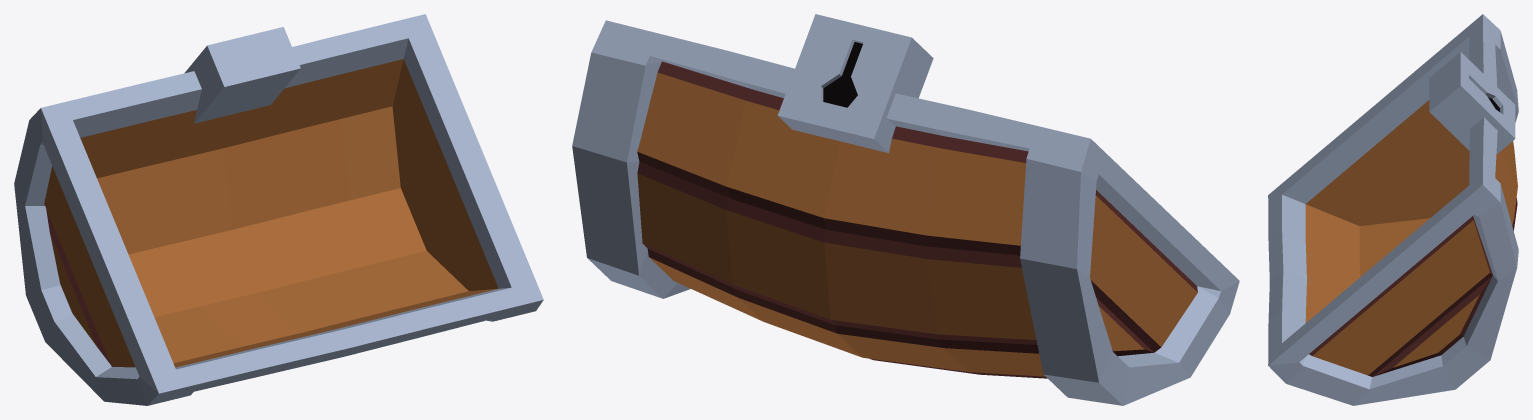
Rendered from chest_top.fbx.
3 renders of one model, left to right at view 1: azimuth 30°, elevation 25°; view 2: azimuth 150°, elevation 25°; view 3: azimuth 270°, elevation 25°, orthographic. The views are drawn at different scales.
Visible parts, largest first — view 1: chest top; view 2: chest top; view 3: chest top.
Boxes of the visible parts, <box> form: chest top: <box>14,14,543,405</box>; chest top: <box>572,14,1239,405</box>; chest top: <box>1268,14,1518,405</box>.
Bounding box in the file's own units: 135 × 79.66 × 87.87.
